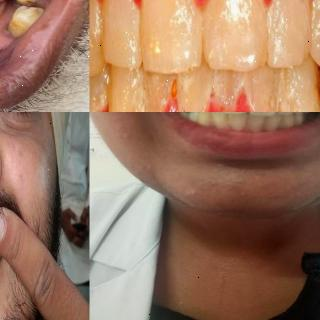maligned: (182, 112, 200, 125)
plaque: (204, 0, 270, 70), (141, 0, 199, 72), (272, 0, 314, 62), (278, 52, 320, 112), (103, 0, 139, 64), (242, 58, 284, 112), (105, 61, 146, 112), (176, 57, 214, 112), (207, 59, 243, 112), (142, 63, 176, 112), (90, 62, 106, 112)
